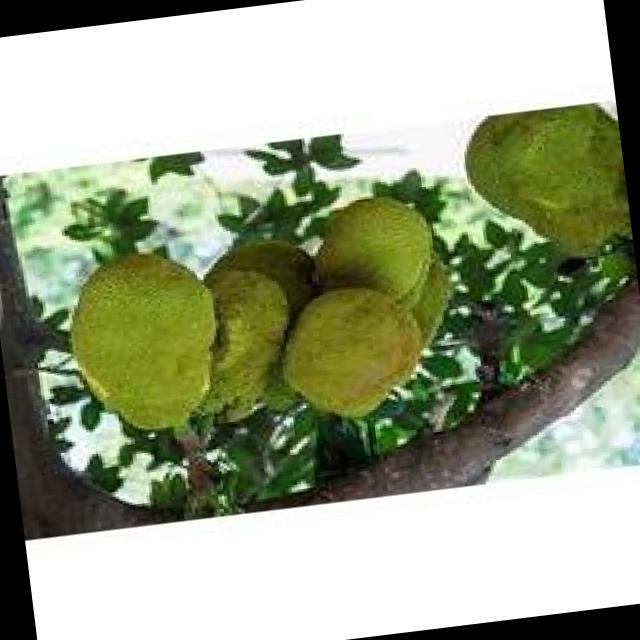Fruit: (249, 171, 484, 446), (41, 225, 242, 460)
